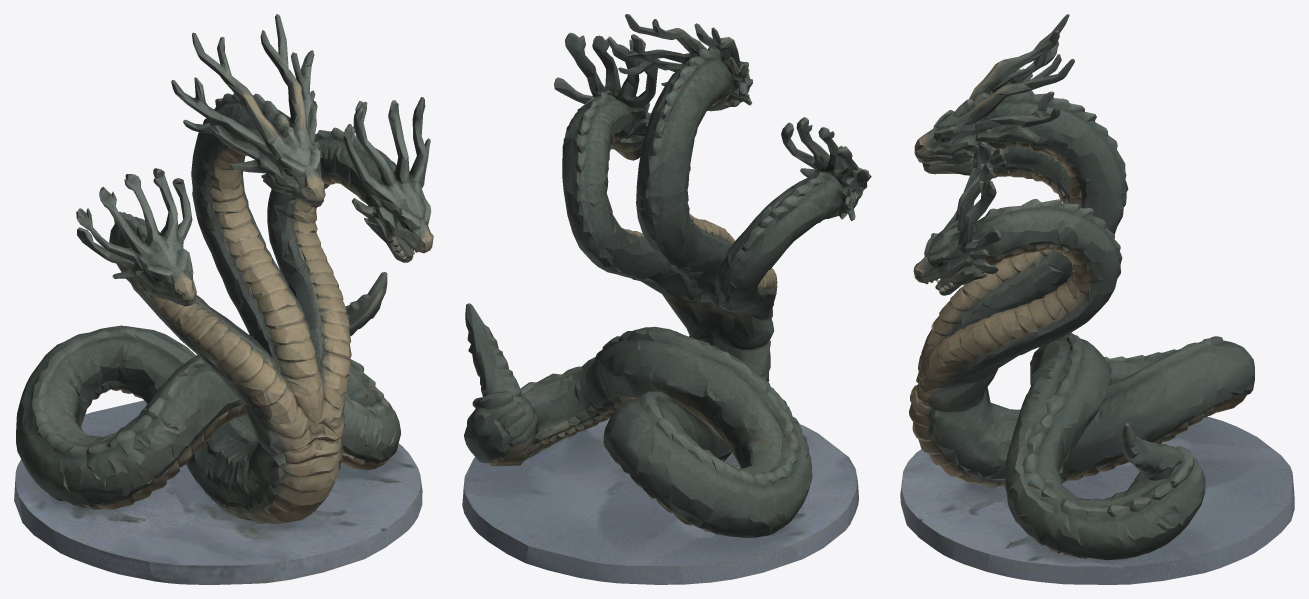
The model's file is raaga.glb.
3 renders of one model, left to right at view 1: azimuth 30°, elevation 25°; view 2: azimuth 150°, elevation 25°; view 3: azimuth 270°, elevation 25°, orthographic. The views are drawn at different scales.
Visible parts, largest first — view 1: output_unwrapped; view 2: output_unwrapped; view 3: output_unwrapped.
Part boxes in pixels (x1,y1,x2,y2): output_unwrapped: [14, 14, 433, 584]; output_unwrapped: [462, 14, 871, 584]; output_unwrapped: [900, 14, 1294, 584].
Bounding box in the file's own units: 1.49 × 1.9 × 1.45.
1 material, 1 textured.
